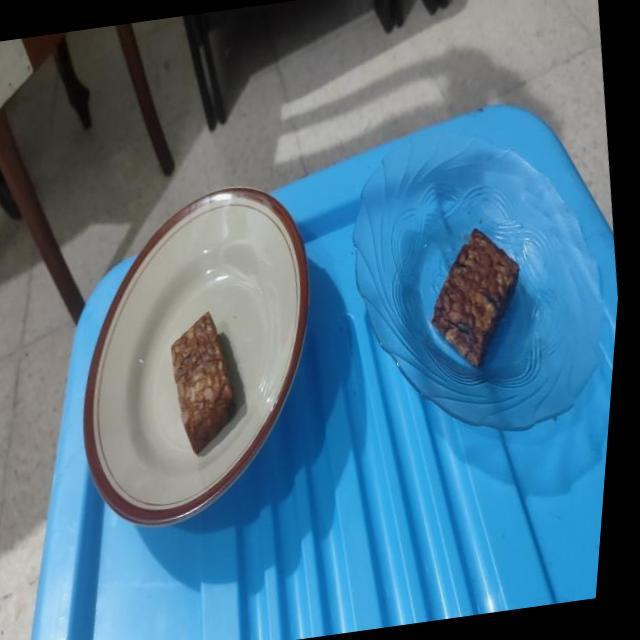tempe_goreng: (432, 229, 518, 366), (172, 312, 234, 453)
